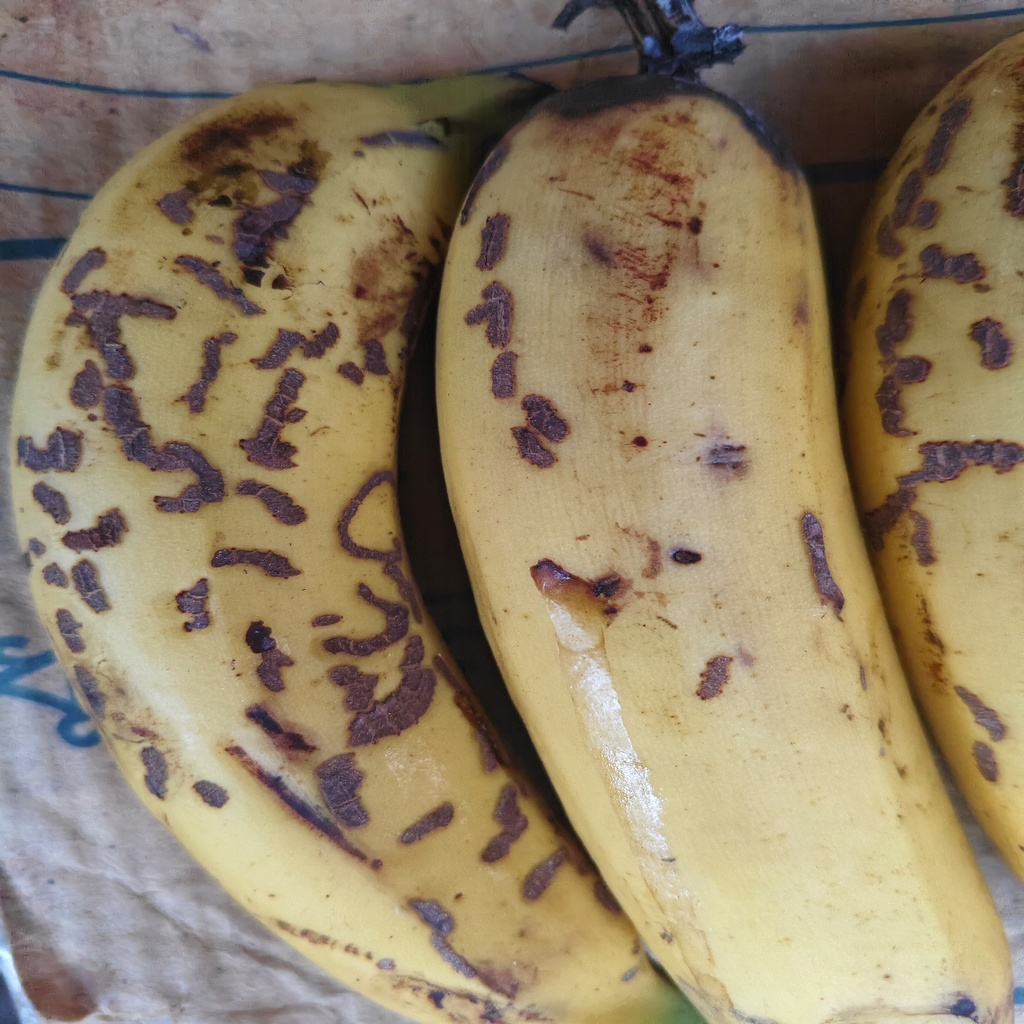unhealthy: (13, 66, 695, 1020), (438, 76, 1003, 1013), (848, 41, 1024, 869)
